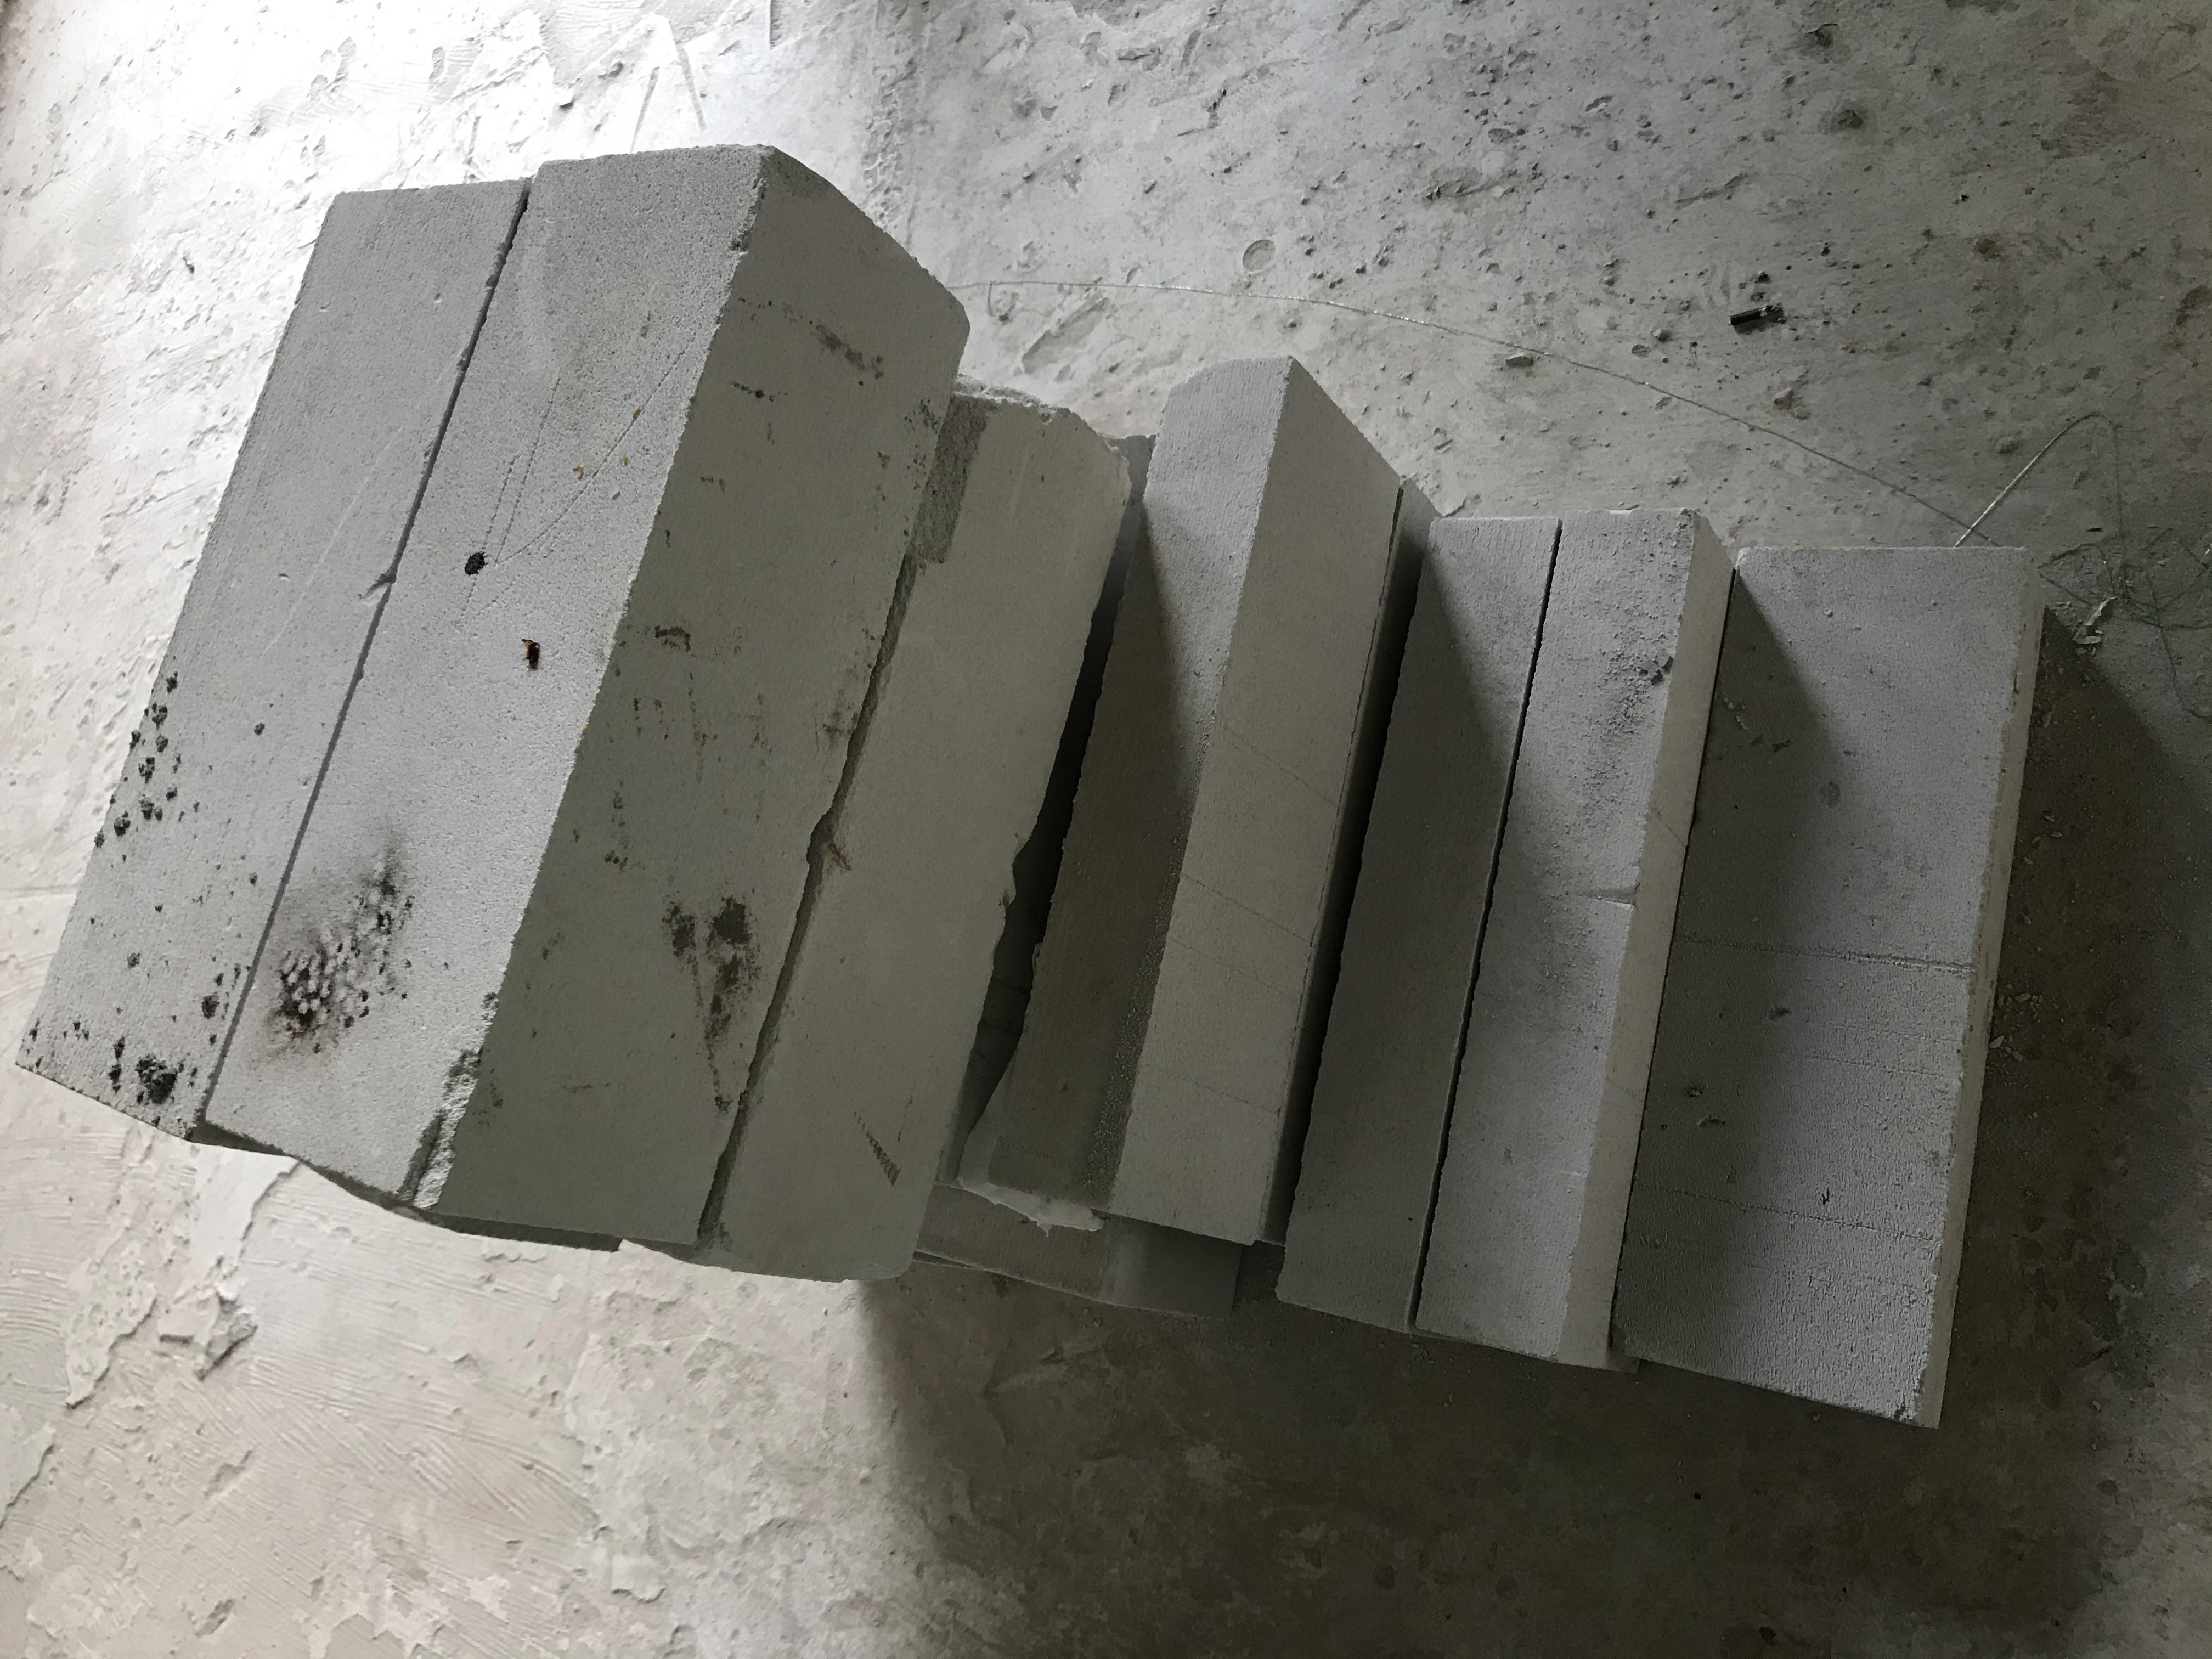brick: (5, 138, 2054, 1438)
